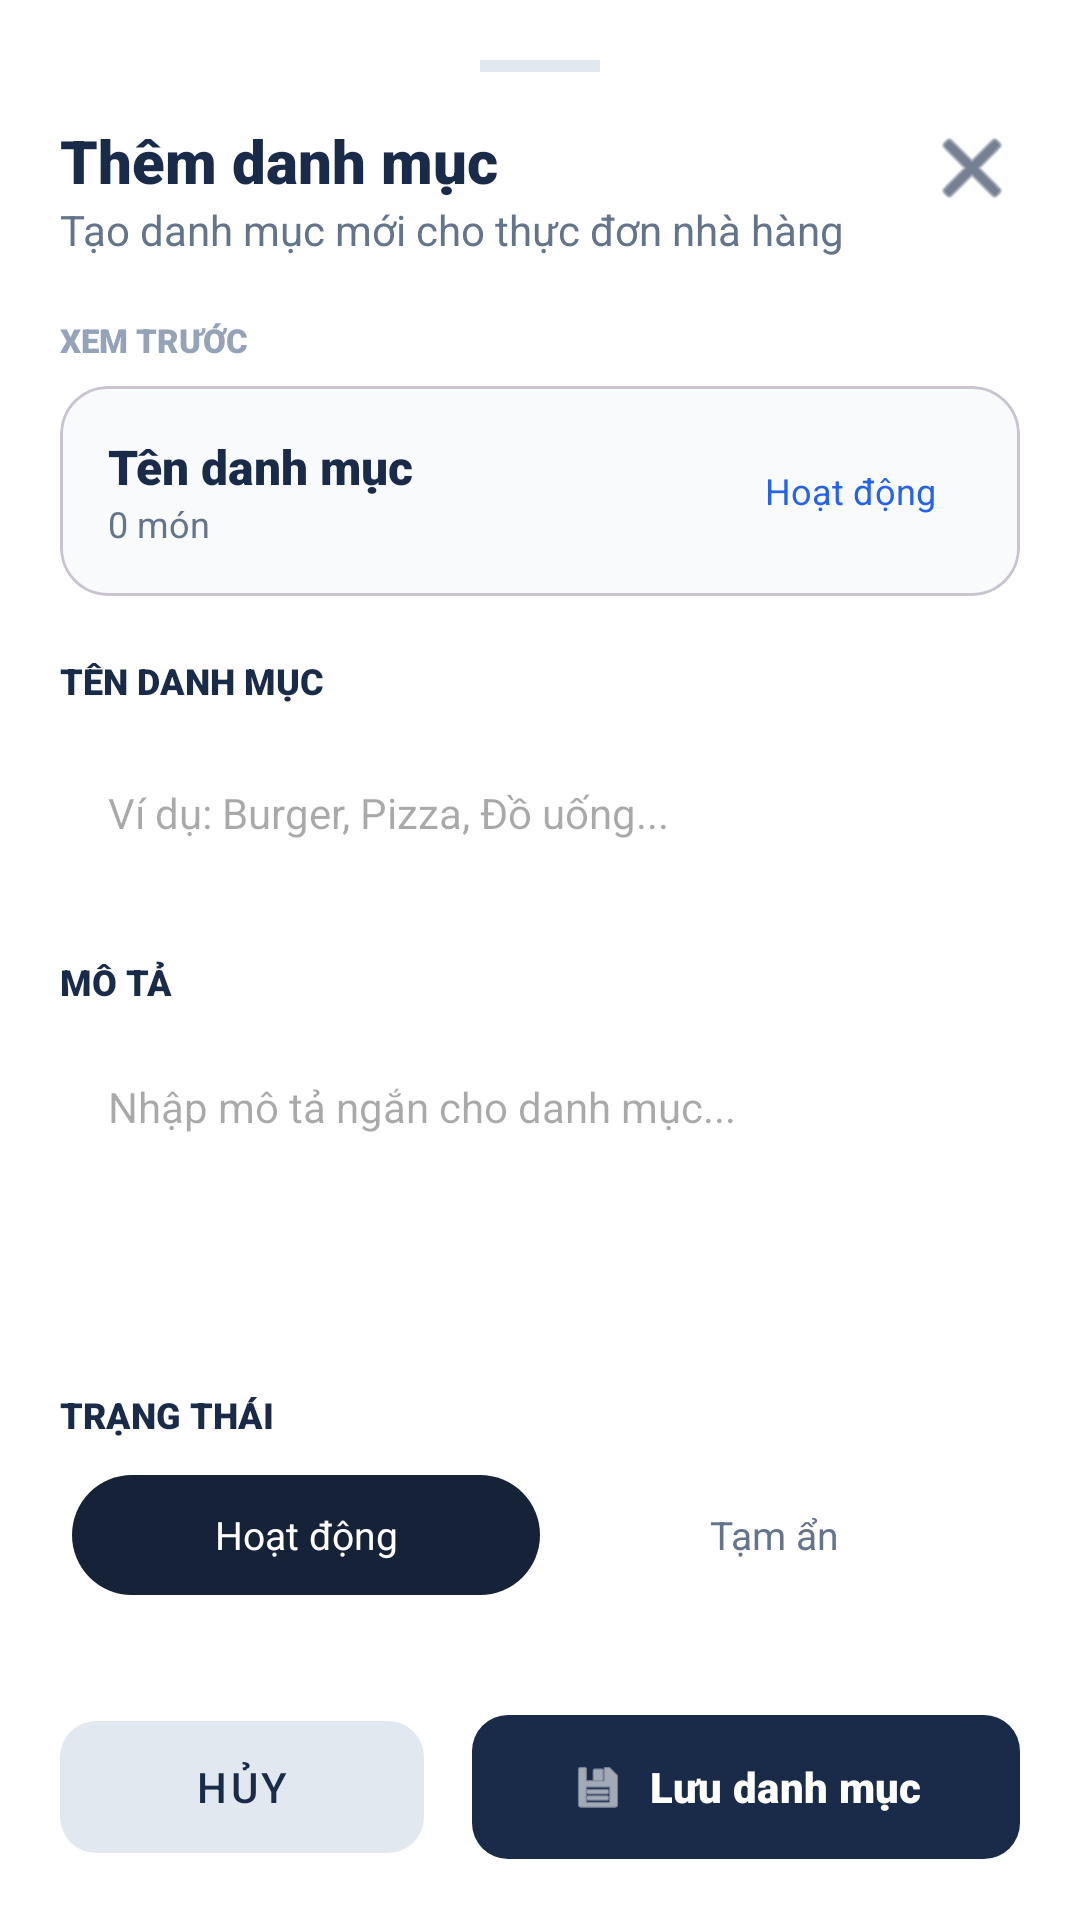

Icons on this 1080×1920 Android screen, each with its box as detection(x1, y1, x2, y2):
Đóng: detection(942, 138, 1002, 198)
